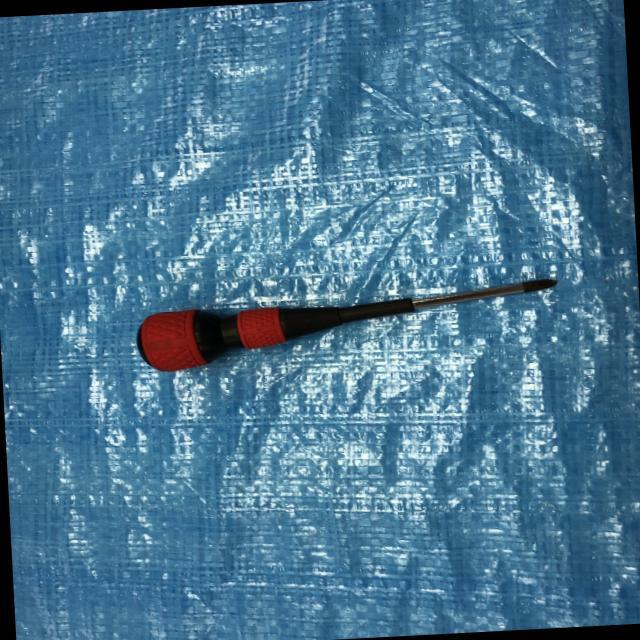screwdriver: (130, 274, 563, 374)
